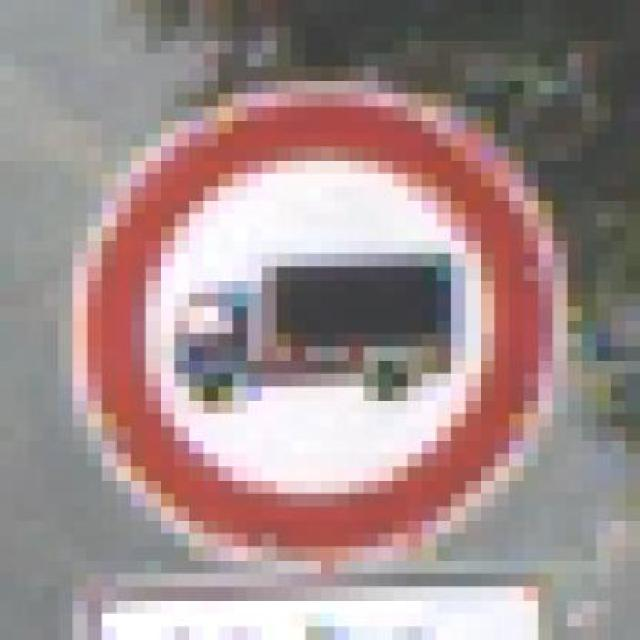Truck traffic is prohibited: (72, 79, 611, 587)
